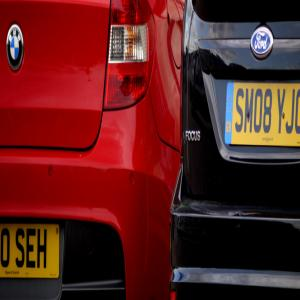Vehicle-registration-plate: (224, 67, 296, 154), (1, 224, 60, 279)
